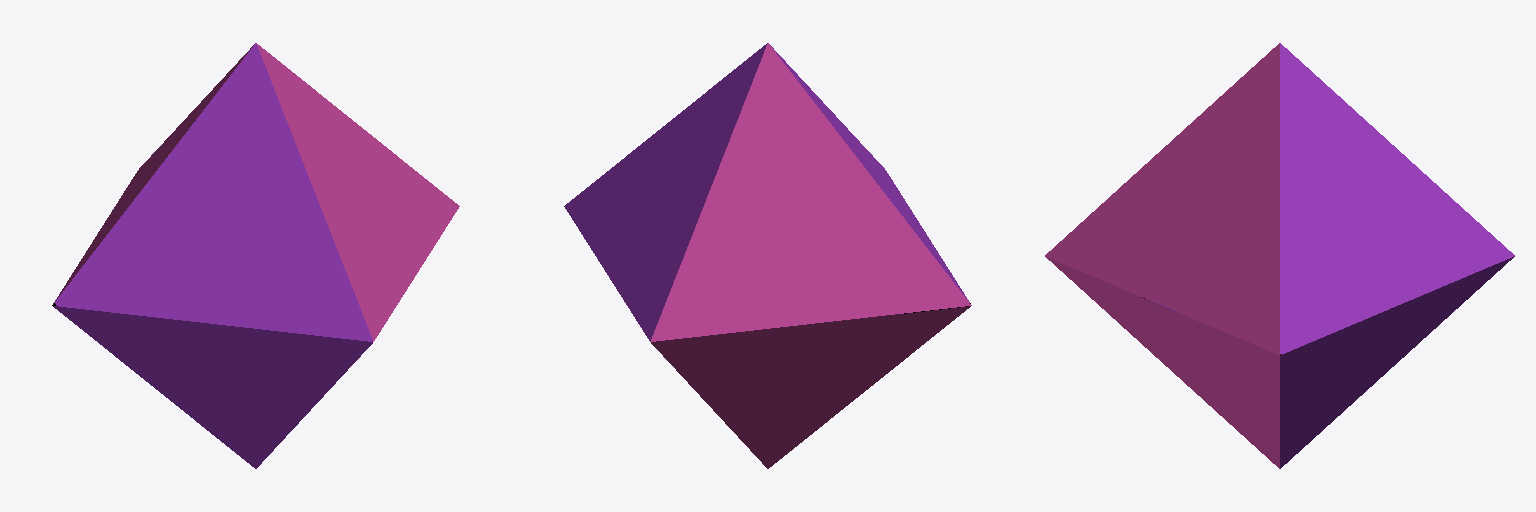
3 renders of one model, left to right at view 1: azimuth 30°, elevation 25°; view 2: azimuth 150°, elevation 25°; view 3: azimuth 270°, elevation 25°, orthographic.
Visible parts, largest first — view 1: 円錐.001; view 2: 円錐.001; view 3: 円錐.001.
Part boxes in pixels (bbox=[...]): 円錐.001: bbox=[52, 43, 459, 468]; 円錐.001: bbox=[564, 43, 971, 468]; 円錐.001: bbox=[1045, 43, 1514, 468].
Size of the model in its own units: 2 by 2 by 2.
1 materials, 1 textured.